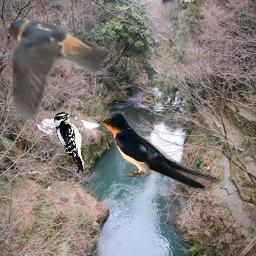Swallow: (3, 15, 113, 120), (94, 109, 223, 191)
Woodpecker: (54, 112, 85, 173)
